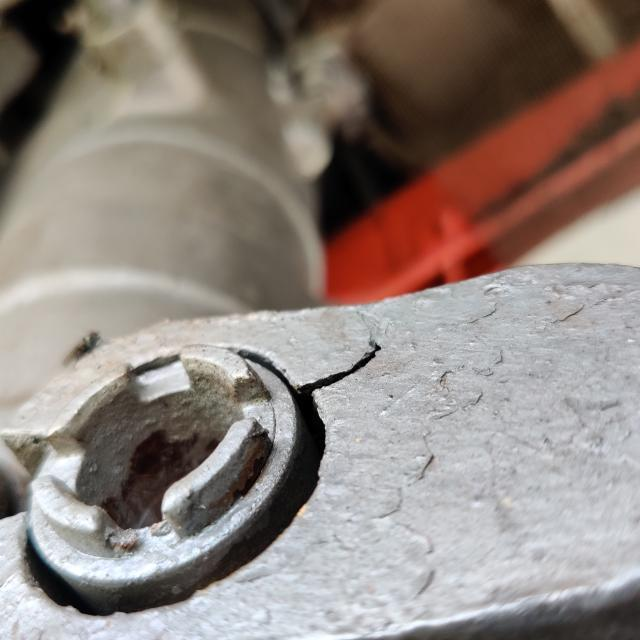Crack: (293, 341, 381, 396)
